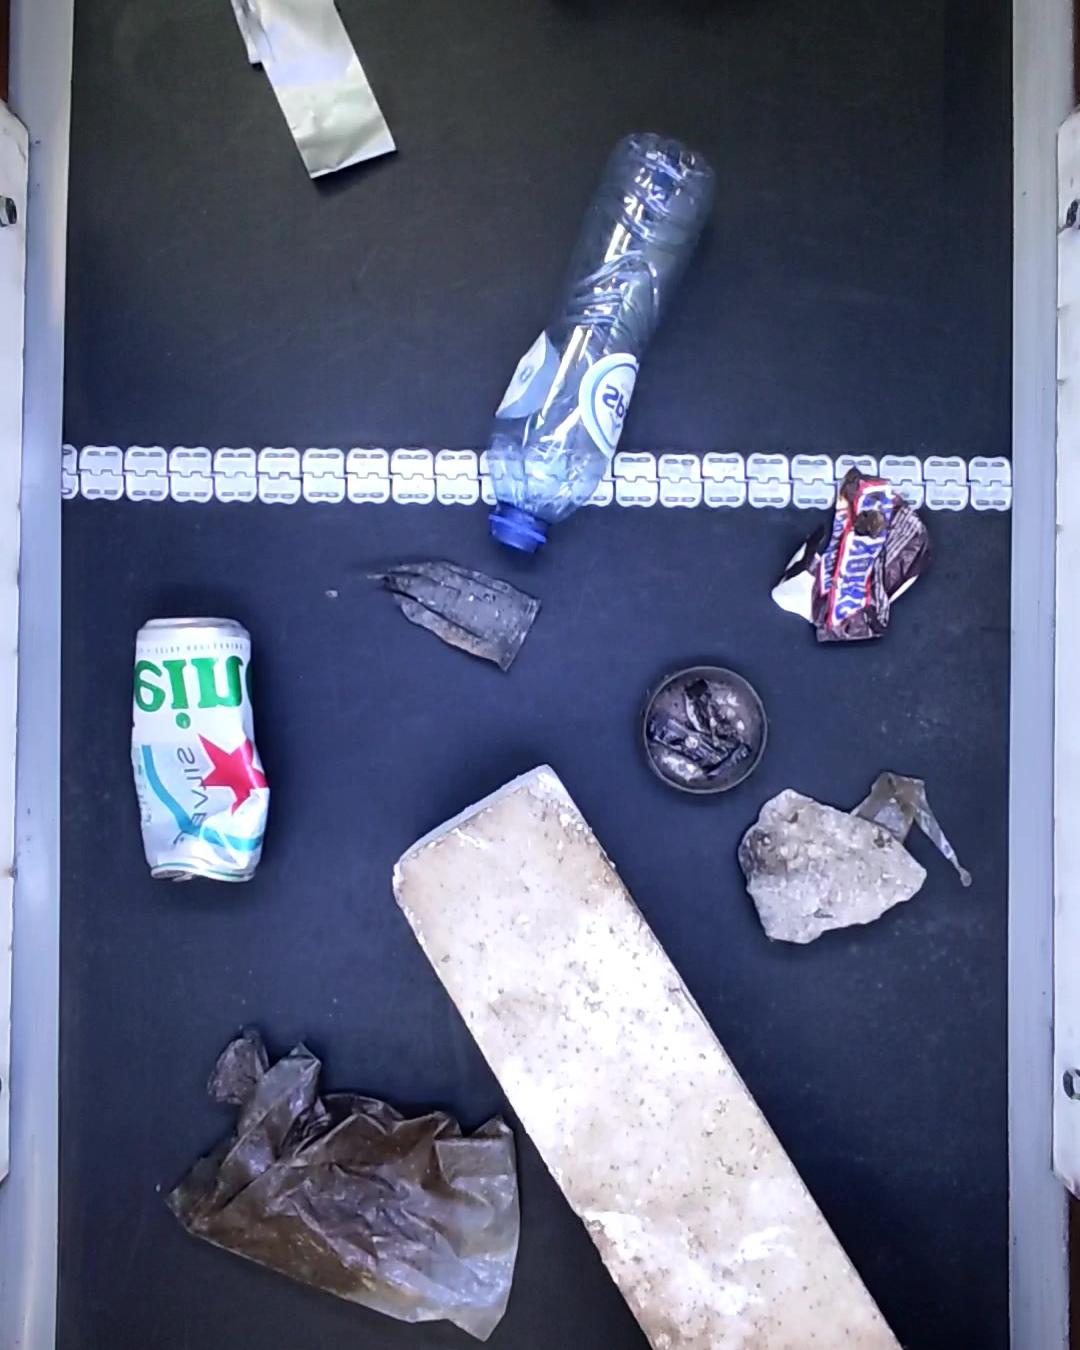Drankblikjes: (120, 605, 272, 893)
Drankflessen - 1-2 liter: (485, 130, 725, 558)
Plastic folies of stukken daarvan 2.5- 50 cm: (177, 1027, 530, 1347)
Snoep snack en chips verpakkingen: (777, 467, 933, 647)
